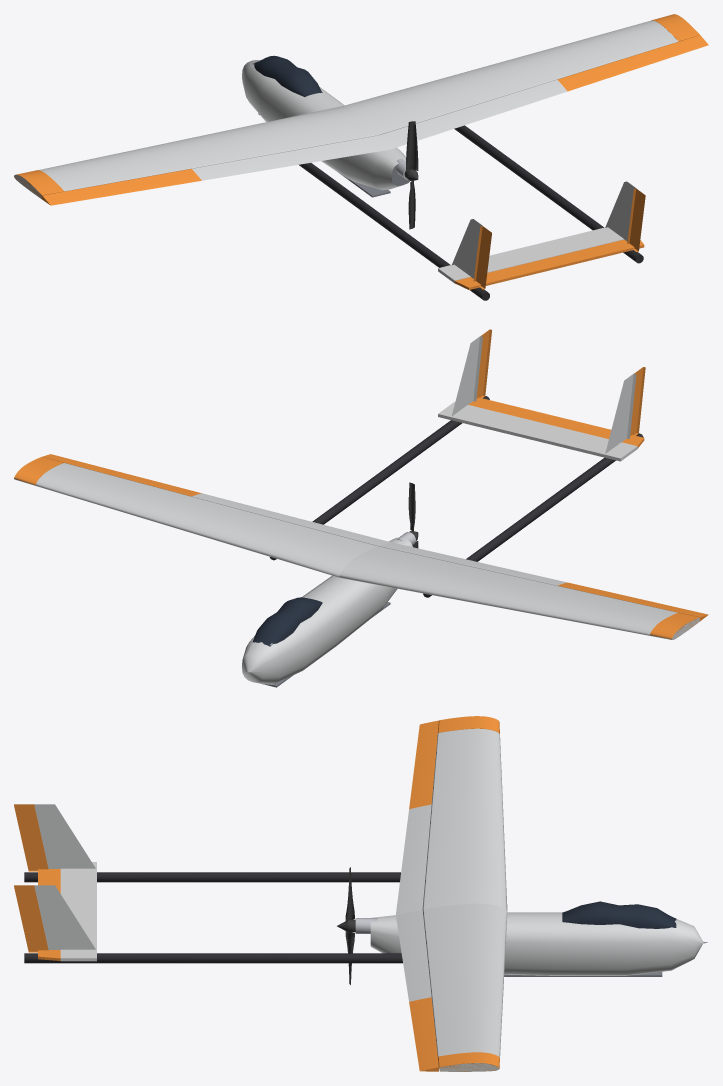
The model's file is twin_boom_1800.glb.
3 renders of one model, top to bottom at view 1: azimuth 30°, elevation 25°; view 2: azimuth 150°, elevation 25°; view 3: azimuth 270°, elevation 25°, orthographic. The views are drawn at different scales.
Visible parts, largest first — view 1: wing_right, wing_left, pod, booms, stabilizer, elevator, aileron_right, aileron_left, canopy, propeller_rotor, fin_right, fin_left (+2 smaller); view 2: wing_right, wing_left, pod, stabilizer, booms, canopy, elevator, fin_right, fin_left, aileron_right, aileron_left, rudder_left (+1 smaller); view 3: wing_left, wing_right, pod, booms, stabilizer, fin_right, fin_left, canopy, aileron_left, rudder_right, aileron_right, rudder_left (+2 smaller).
Boxes of the visible parts, box(x1,y1,x2,y2) form: wing_right: box(342, 14, 708, 149); wing_left: box(14, 106, 390, 205); pod: box(242, 59, 409, 197); booms: box(299, 125, 643, 300); stabilizer: box(438, 227, 624, 283); elevator: box(454, 239, 644, 289); aileron_right: box(557, 39, 694, 91); aileron_left: box(57, 168, 201, 203); canopy: box(253, 55, 322, 96); propeller_rotor: box(404, 121, 418, 229); fin_right: box(605, 181, 636, 241); fin_left: box(452, 219, 482, 278); wing_right: box(14, 454, 390, 577); wing_left: box(339, 542, 708, 639); pod: box(242, 537, 412, 687); stabilizer: box(438, 401, 637, 461); booms: box(270, 396, 643, 597); canopy: box(252, 597, 322, 646); elevator: box(468, 397, 644, 448); fin_right: box(451, 336, 482, 416); fin_left: box(605, 373, 636, 453); aileron_right: box(58, 458, 201, 496); aileron_left: box(558, 582, 694, 613); rudder_left: box(630, 367, 645, 436); wing_left: box(396, 716, 507, 914); wing_right: box(396, 903, 507, 1071); pod: box(370, 912, 707, 976); booms: box(24, 872, 402, 963); stabilizer: box(60, 862, 96, 961); fin_right: box(34, 885, 95, 950); fin_left: box(34, 804, 95, 869); canopy: box(562, 901, 676, 928); aileron_left: box(409, 729, 437, 809); rudder_right: box(14, 885, 48, 952); aileron_right: box(409, 997, 437, 1064); rudder_left: box(14, 804, 48, 871).
Bounding box in the file's own units: 1.8 × 0.3347 × 1.52.
